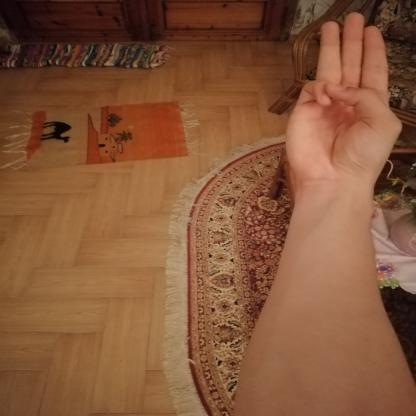THA: (267, 5, 410, 202)
